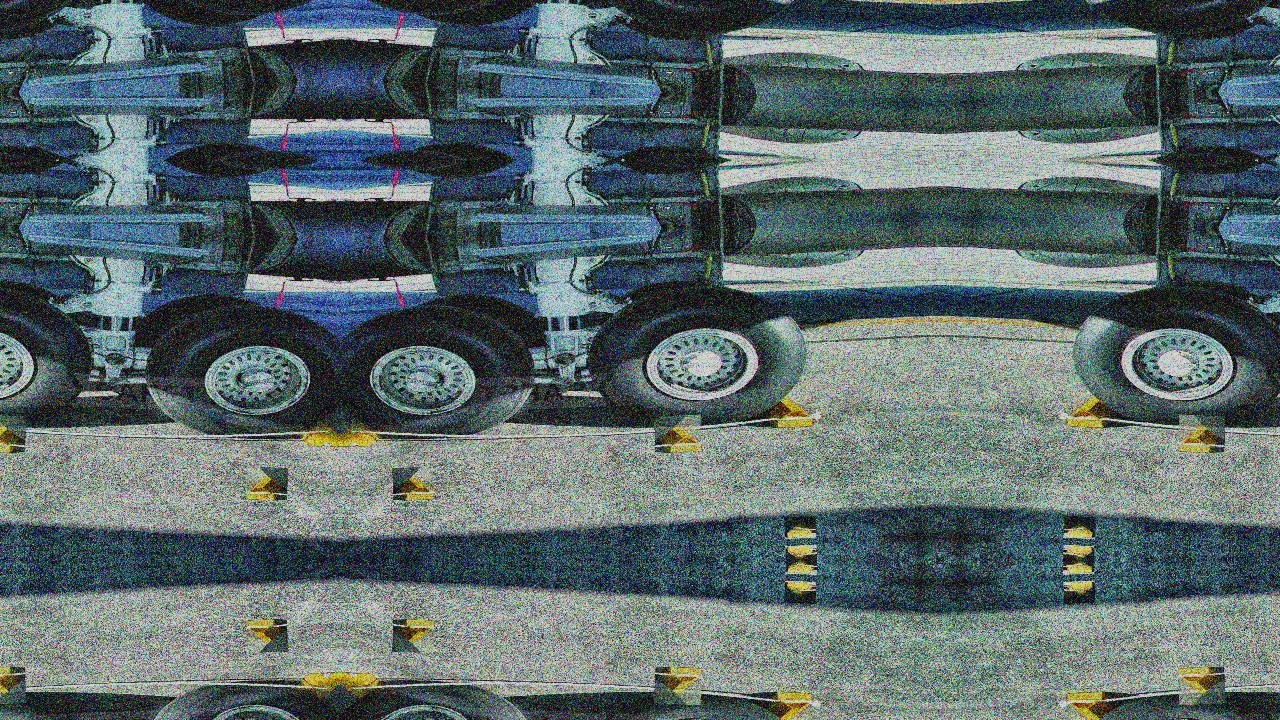chock: (759, 384, 813, 429), (1067, 384, 1121, 429), (654, 414, 702, 454), (1178, 414, 1226, 454), (654, 666, 702, 706), (1178, 666, 1226, 706), (293, 409, 340, 449), (340, 409, 387, 449), (293, 671, 340, 711), (340, 671, 387, 711), (759, 691, 813, 720), (1067, 691, 1121, 720), (245, 466, 288, 501), (392, 466, 435, 501), (245, 619, 288, 654), (392, 619, 435, 654), (0, 414, 26, 454), (0, 666, 26, 706), (784, 516, 816, 539), (1064, 516, 1096, 539), (784, 581, 816, 604), (1064, 581, 1096, 604), (785, 545, 817, 560), (1063, 545, 1095, 560), (785, 560, 817, 575), (1063, 560, 1095, 575)
wheel: (590, 278, 810, 427), (1070, 278, 1280, 427), (141, 299, 340, 438), (340, 299, 539, 438), (0, 278, 90, 427), (590, 0, 810, 42), (1070, 0, 1280, 42), (133, 291, 262, 353), (418, 291, 547, 353), (141, 682, 340, 720), (340, 682, 539, 720), (590, 693, 810, 720), (1070, 693, 1280, 720), (141, 0, 340, 21), (340, 0, 539, 21), (0, 0, 90, 42), (133, 0, 262, 29), (418, 0, 547, 29), (140, 140, 269, 160), (411, 140, 540, 160), (140, 160, 269, 180), (411, 160, 540, 180), (0, 693, 90, 720), (616, 19, 715, 42), (1165, 19, 1264, 42), (616, 278, 715, 301), (1165, 278, 1264, 301), (611, 142, 710, 160), (1170, 142, 1269, 160), (611, 160, 710, 178), (1170, 160, 1269, 178), (0, 19, 64, 42), (0, 278, 64, 301), (0, 142, 69, 160), (0, 160, 69, 178)
